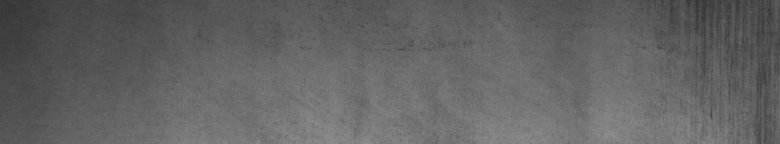ka: (643, 4, 776, 136)
